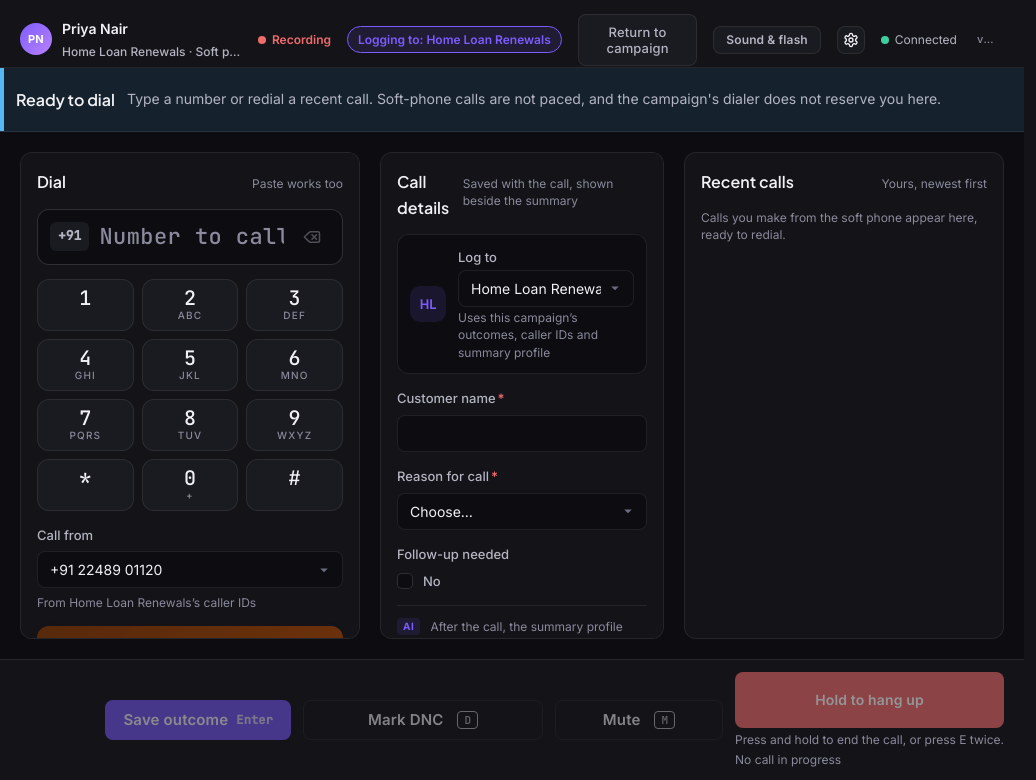
Test: on the soft phone, in the station › shows the server’s manual_call_live refusal when it says so first
The width and height of the screenshot is (1036, 780).
Click the button with test id "return-to-campaign" at (638, 40), box [578,14,697,66]
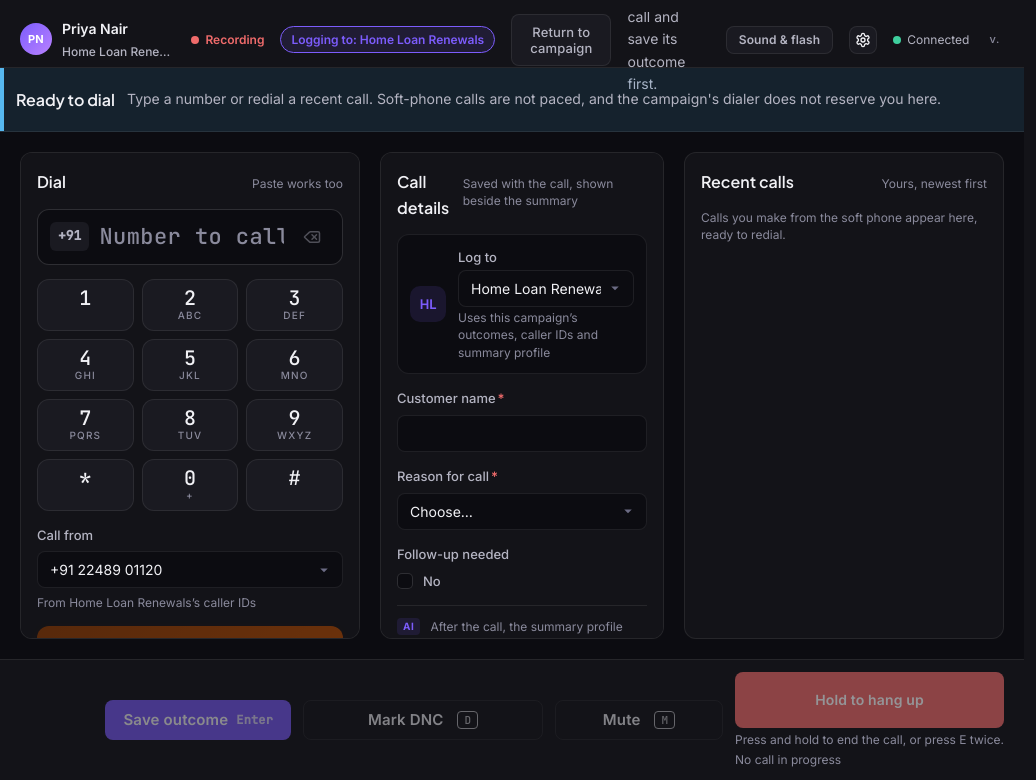
Expected: the message with test id "return-to-campaign-reason" reads "Finish this call and save its outcome first.", [628,12,694,92]
